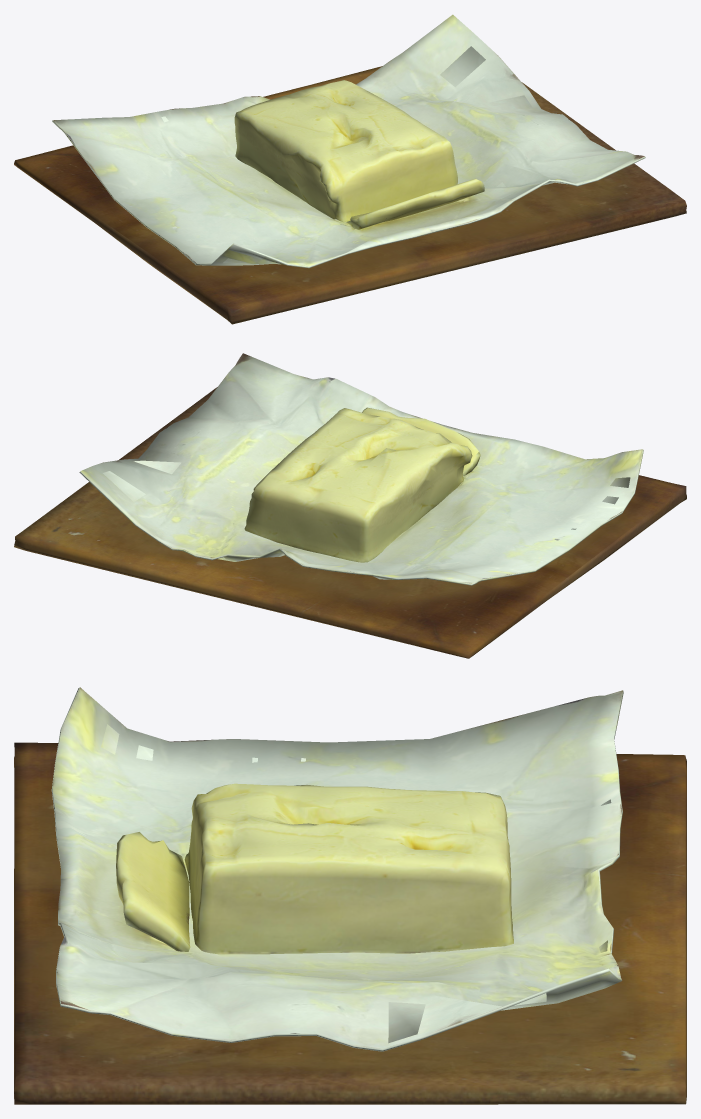
The model's file is butter.glb.
The picture shows the model from 3 angles, top to bottom: view 1: azimuth 30°, elevation 25°; view 2: azimuth 150°, elevation 25°; view 3: azimuth 270°, elevation 25°; orthographic projection. The views are drawn at different scales.
Visible parts, largest first — view 1: Object_2; view 2: Object_2; view 3: Object_2.
Part boxes in pixels (bbox=[...]): Object_2: bbox=[14, 14, 686, 324]; Object_2: bbox=[14, 353, 686, 658]; Object_2: bbox=[14, 687, 686, 1104].
Size of the model in its own units: 12.05 by 1.82 by 10.
Materials: 1 (1 with a texture image).
